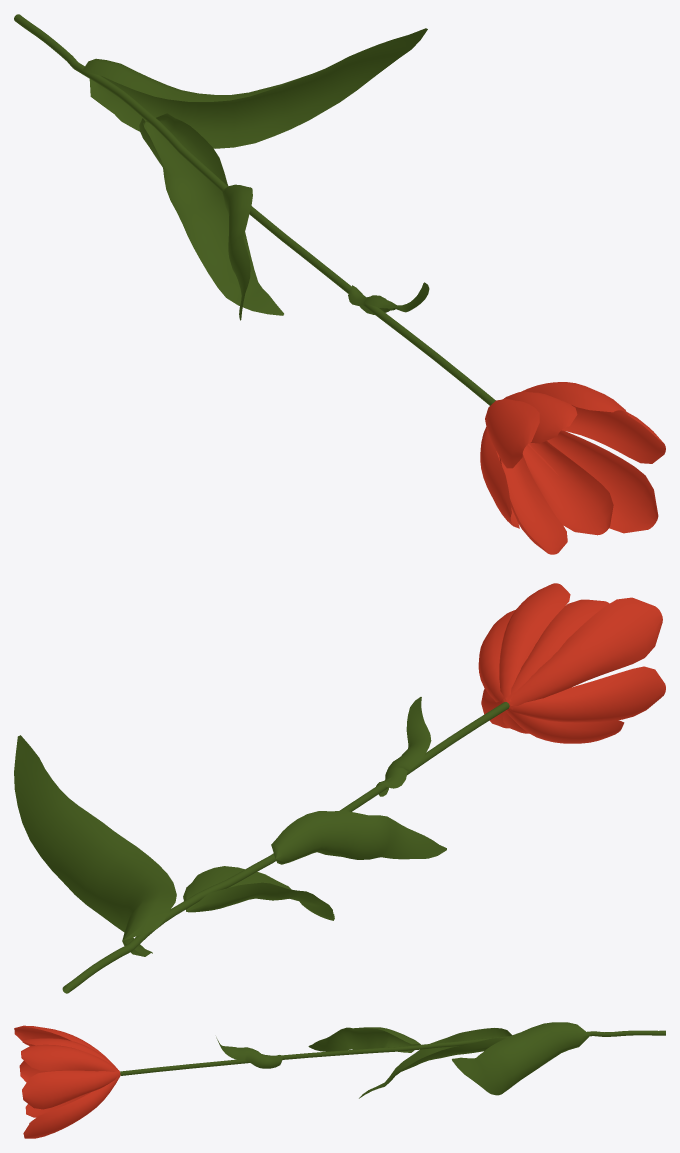
Rendered from Tulpen_tall.dae.
3 renders of one model, top to bottom at view 1: azimuth 30°, elevation 25°; view 2: azimuth 150°, elevation 25°; view 3: azimuth 270°, elevation 25°, orthographic. The views are drawn at different scales.
Visible parts, largest first — view 1: polySurface9, polySurface12, polySurface13, polySurface10, polySurface14, polySurface15; view 2: polySurface9, polySurface12, polySurface14, polySurface13, polySurface10, polySurface15; view 3: polySurface9, polySurface12, polySurface10, polySurface13, polySurface14, polySurface15.
Boxes of the visible parts, bbox=[...] form: polySurface9: bbox=[480, 382, 665, 554]; polySurface12: bbox=[82, 28, 427, 148]; polySurface13: bbox=[139, 113, 283, 315]; polySurface10: bbox=[14, 14, 495, 405]; polySurface14: bbox=[222, 184, 252, 320]; polySurface15: bbox=[348, 282, 429, 314]; polySurface9: bbox=[478, 583, 665, 743]; polySurface12: bbox=[14, 735, 176, 956]; polySurface14: bbox=[271, 811, 446, 864]; polySurface13: bbox=[183, 866, 334, 920]; polySurface10: bbox=[62, 702, 509, 993]; polySurface15: bbox=[376, 697, 431, 796]; polySurface9: bbox=[14, 1025, 120, 1138]; polySurface12: bbox=[452, 1022, 590, 1095]; polySurface10: bbox=[120, 1030, 665, 1075]; polySurface13: bbox=[359, 1028, 511, 1098]; polySurface14: bbox=[308, 1027, 420, 1052]; polySurface15: bbox=[216, 1037, 283, 1068].
Bounding box in the file's own units: 15.26 × 9.87 × 47.27.
